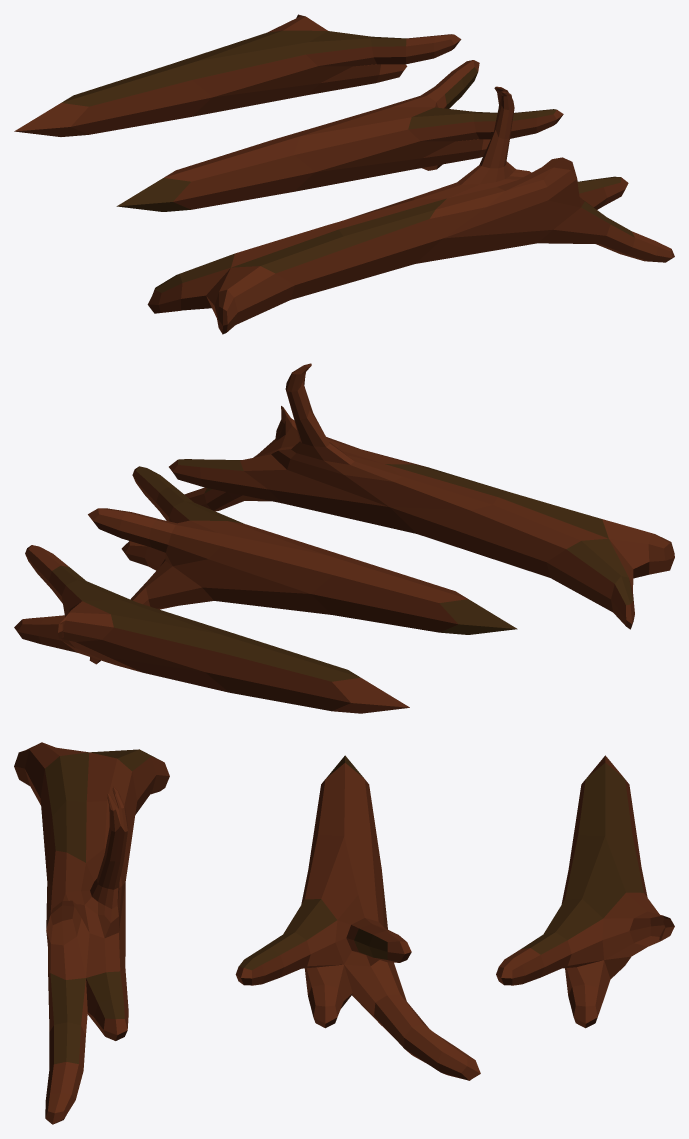
Rendered from twigs.fbx.
The picture shows the model from 3 angles, top to bottom: view 1: azimuth 30°, elevation 25°; view 2: azimuth 150°, elevation 25°; view 3: azimuth 270°, elevation 25°; orthographic projection. The views are drawn at different scales.
Visible parts, largest first — view 1: Twig.001, Twig, Twig.002; view 2: Twig.001, Twig, Twig.002; view 3: Twig.001, Twig, Twig.002.
Part boxes in pixels (left/top/right/bottom): Twig.001: left=147, top=86, right=674, bottom=334; Twig: left=116, top=60, right=563, bottom=211; Twig.002: left=14, top=14, right=461, bottom=136; Twig.001: left=169, top=363, right=674, bottom=629; Twig: left=88, top=466, right=517, bottom=664; Twig.002: left=14, top=545, right=409, bottom=713; Twig.001: left=14, top=742, right=169, bottom=1124; Twig: left=235, top=755, right=480, bottom=1080; Twig.002: left=496, top=755, right=674, bottom=1028.
Bounding box in the file's own units: 272 × 108 × 254.
